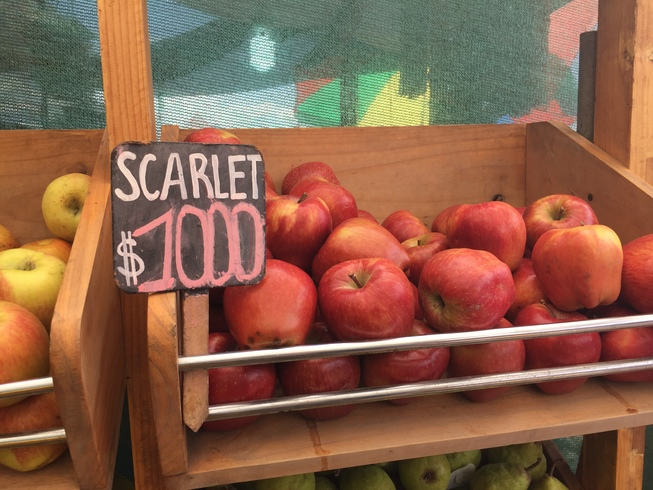precio: (110, 141, 265, 288)
